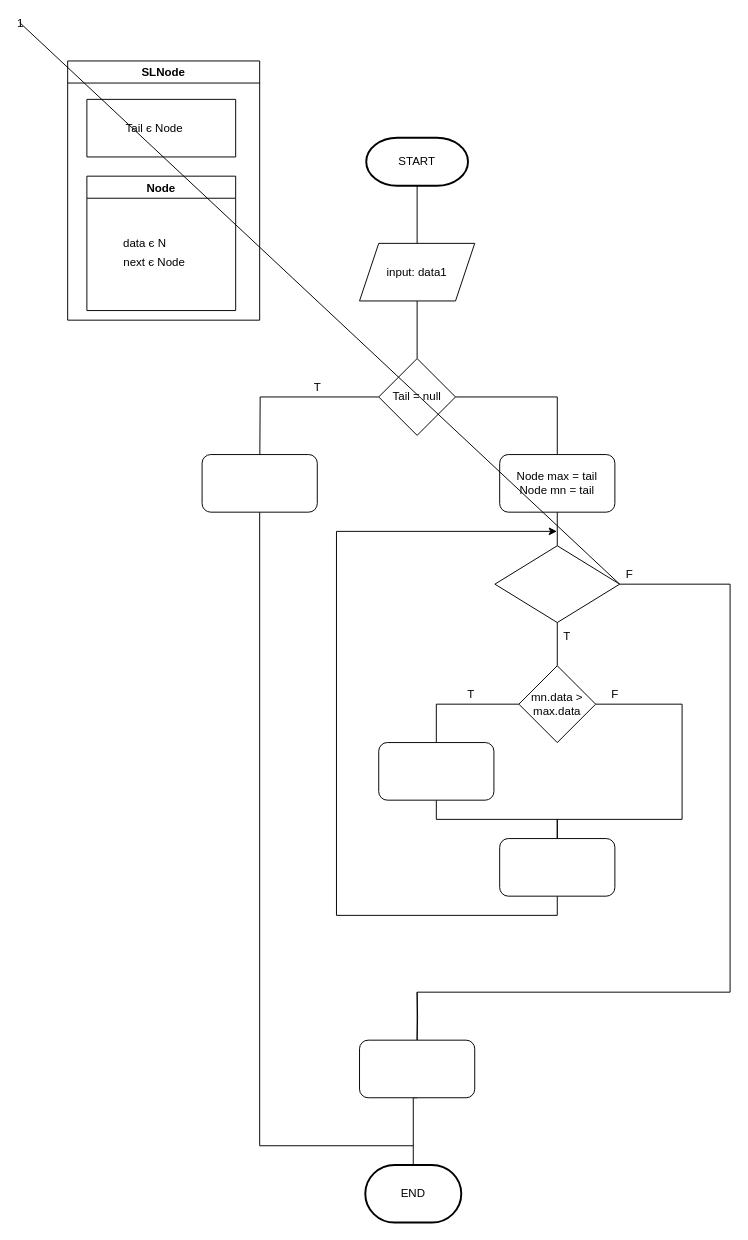
Some shapes in this 748 by 1240 pixel diagram are drawn without their labels. Here are the shapes that lost their labels. From the top down, the centre of each, then its label:
At (259,483): "Tail = new Node(data1)".
At (557,584): "mn.next != Tail".
At (436,771): "max = mn".
At (557,867): "mn.next".
At (417,1068): "max.next = new Node(max.next, data)".
